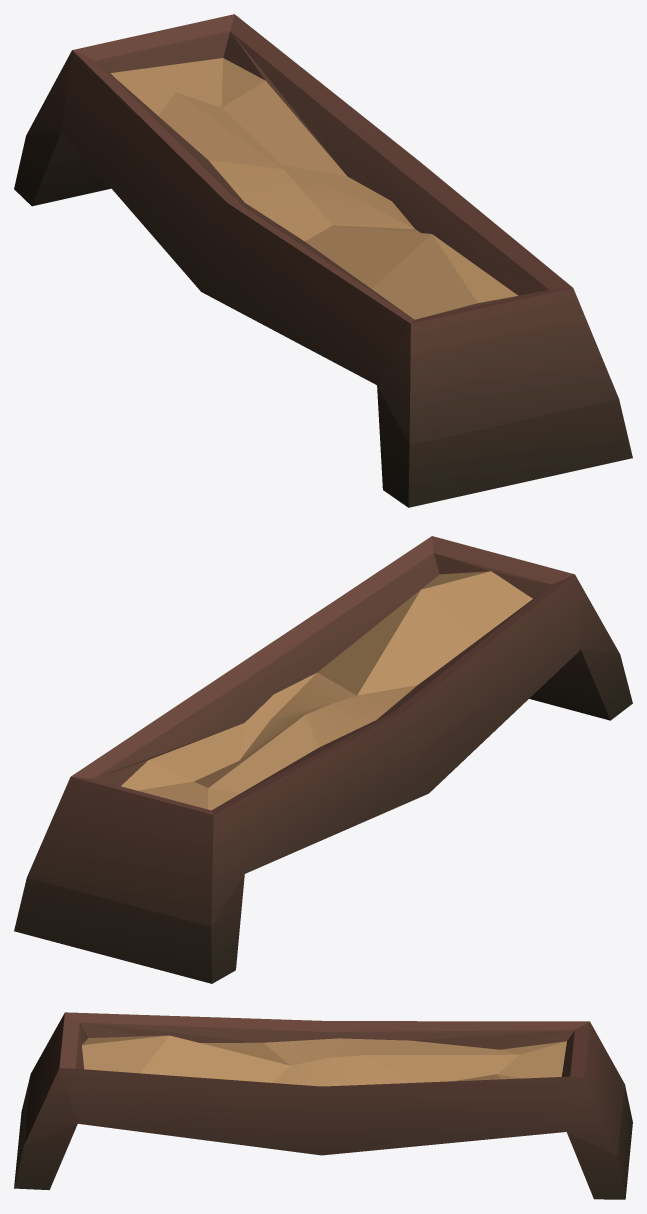
Rendered from feedingTray.glb.
The picture shows the model from 3 angles, top to bottom: view 1: azimuth 30°, elevation 25°; view 2: azimuth 150°, elevation 25°; view 3: azimuth 270°, elevation 25°; orthographic projection. The views are drawn at different scales.
Parts seen in each view (by area): view 1: Object_2; view 2: Object_2; view 3: Object_2.
Boxes of the visible parts, x1=… form: Object_2: x1=14, y1=14, x2=632, y2=507; Object_2: x1=14, y1=536, x2=632, y2=983; Object_2: x1=14, y1=1012, x2=632, y2=1199.
Size of the model in its own units: 0.3458 by 0.221 by 1.03.
Materials: 1 (1 with a texture image).
